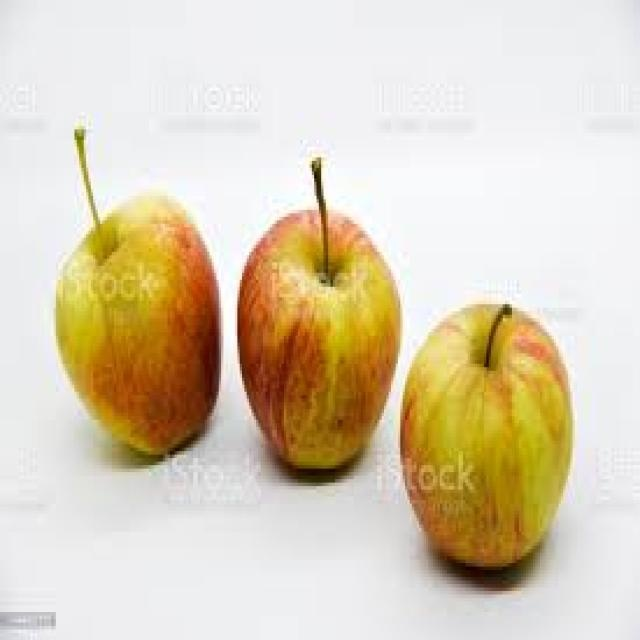agrume: (346, 204, 591, 581), (39, 152, 264, 492), (211, 144, 409, 526)
